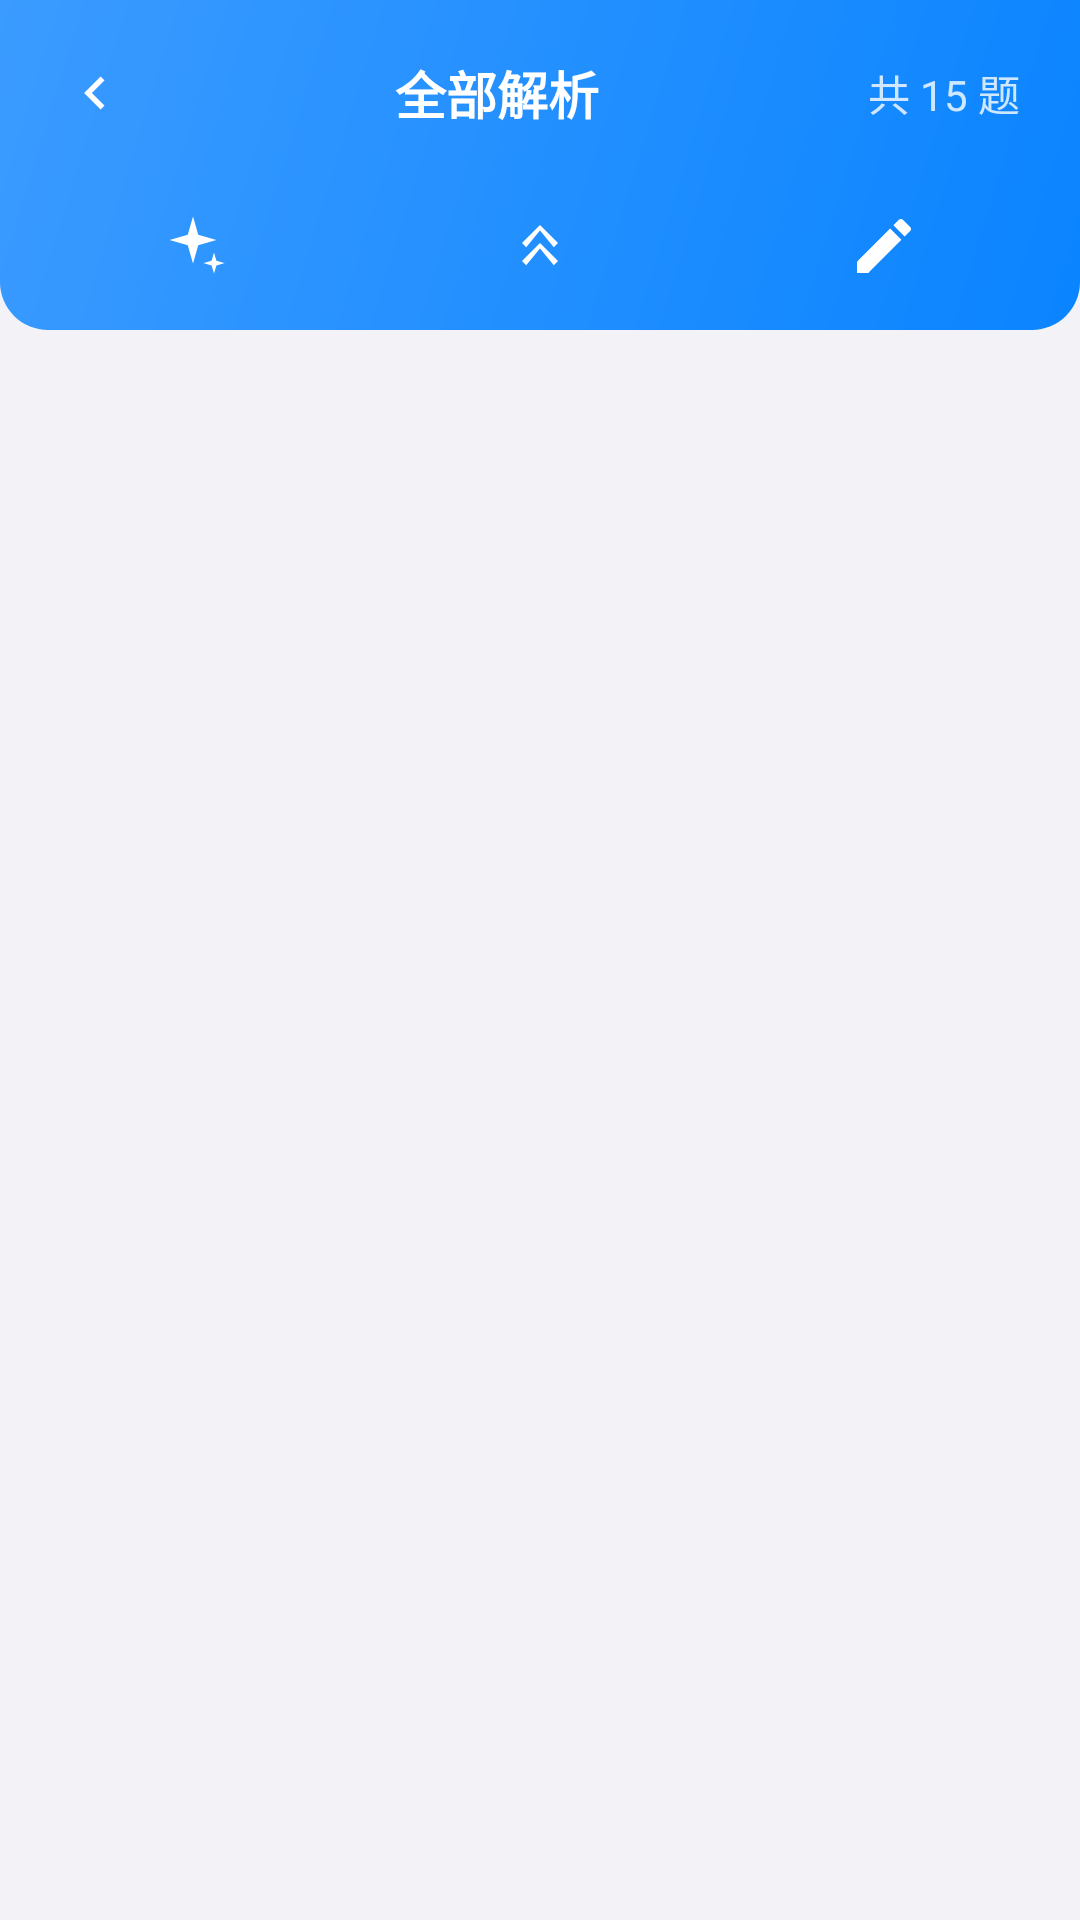

Locate icon controls on the screen. Image size 1080×1920, boxes as (x1, y1, x2, y2).
全部展开收起: (522, 225, 558, 265)
草稿纸: (857, 219, 911, 273)
返回: (84, 76, 105, 110)
